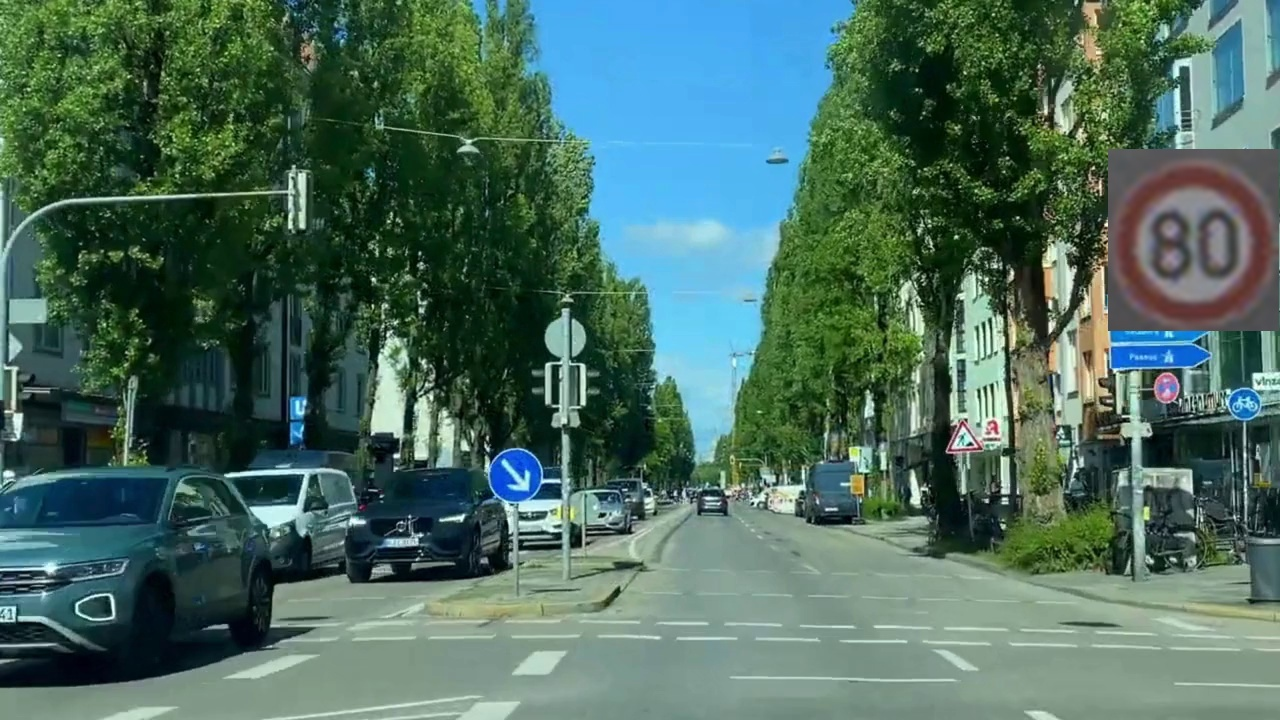Speed 80: (1108, 149, 1279, 331)
